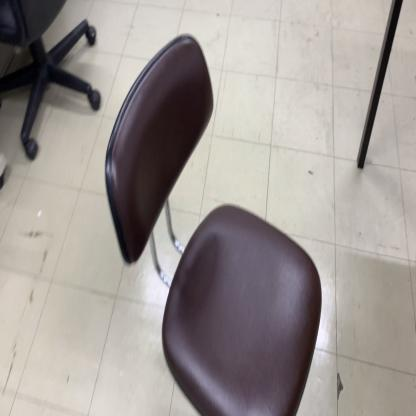chair: (103, 31, 324, 416)
